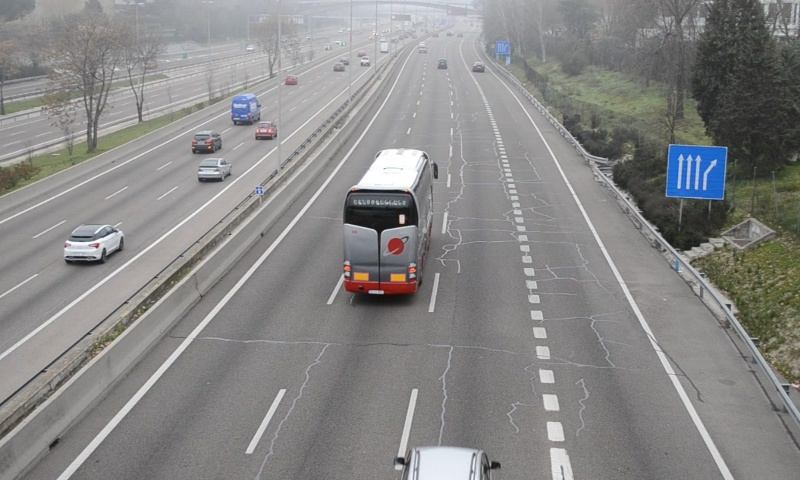bus: (341, 148, 432, 297)
car: (472, 60, 486, 73)
